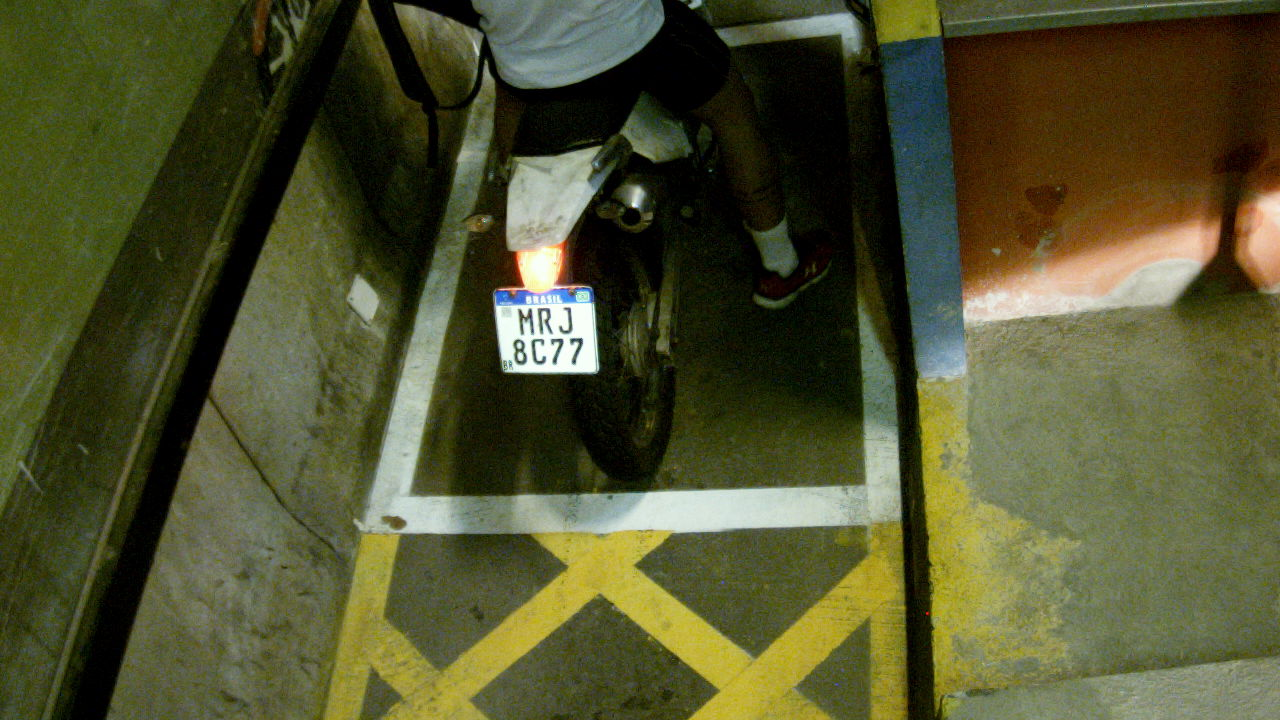placa: (492, 287, 599, 375)
